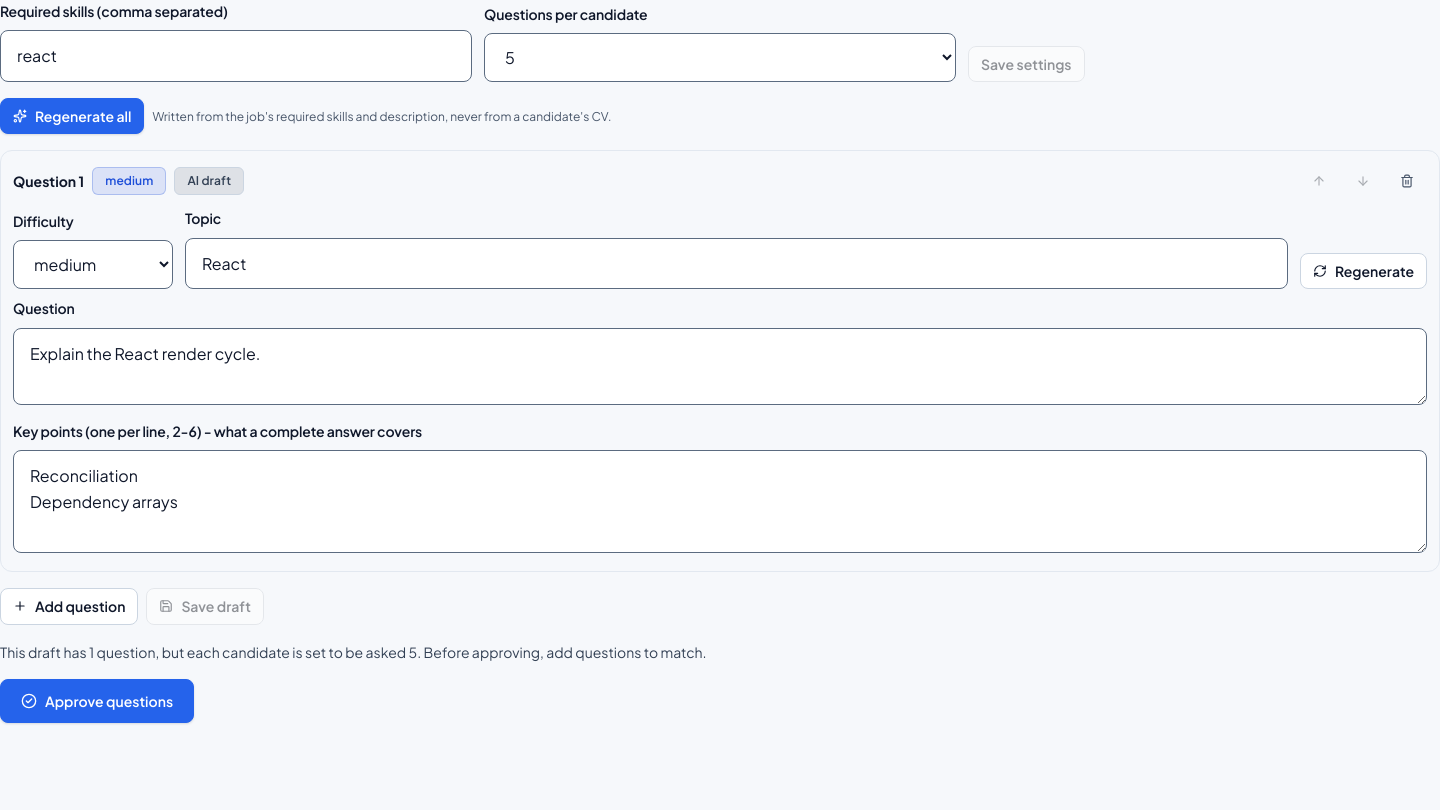
approving › confirming calls the unchanged approve handler
Click the button "Approve questions" at (97, 701), box [0,679,194,724]
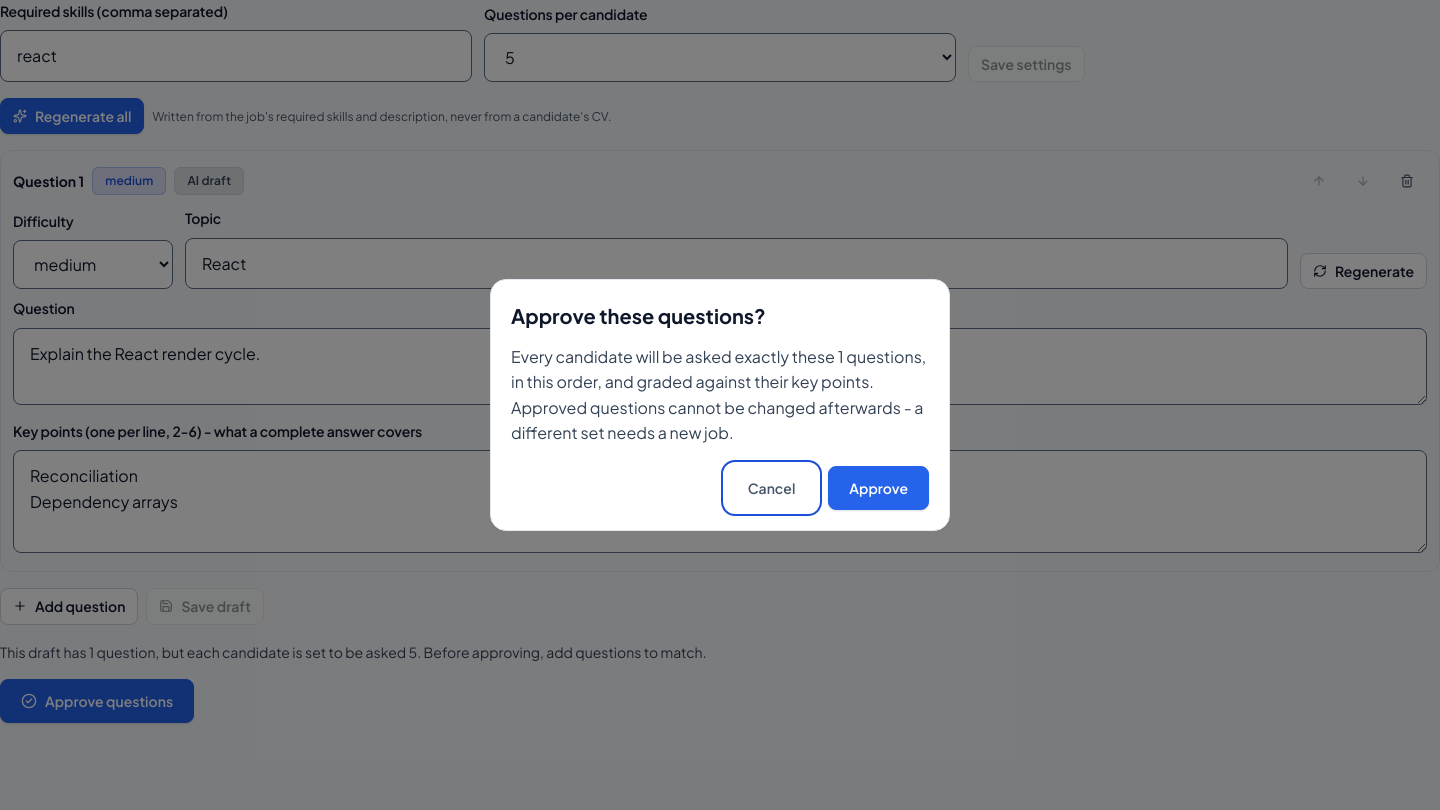
Click the button "Approve" at (879, 488), box [828,466,929,510]
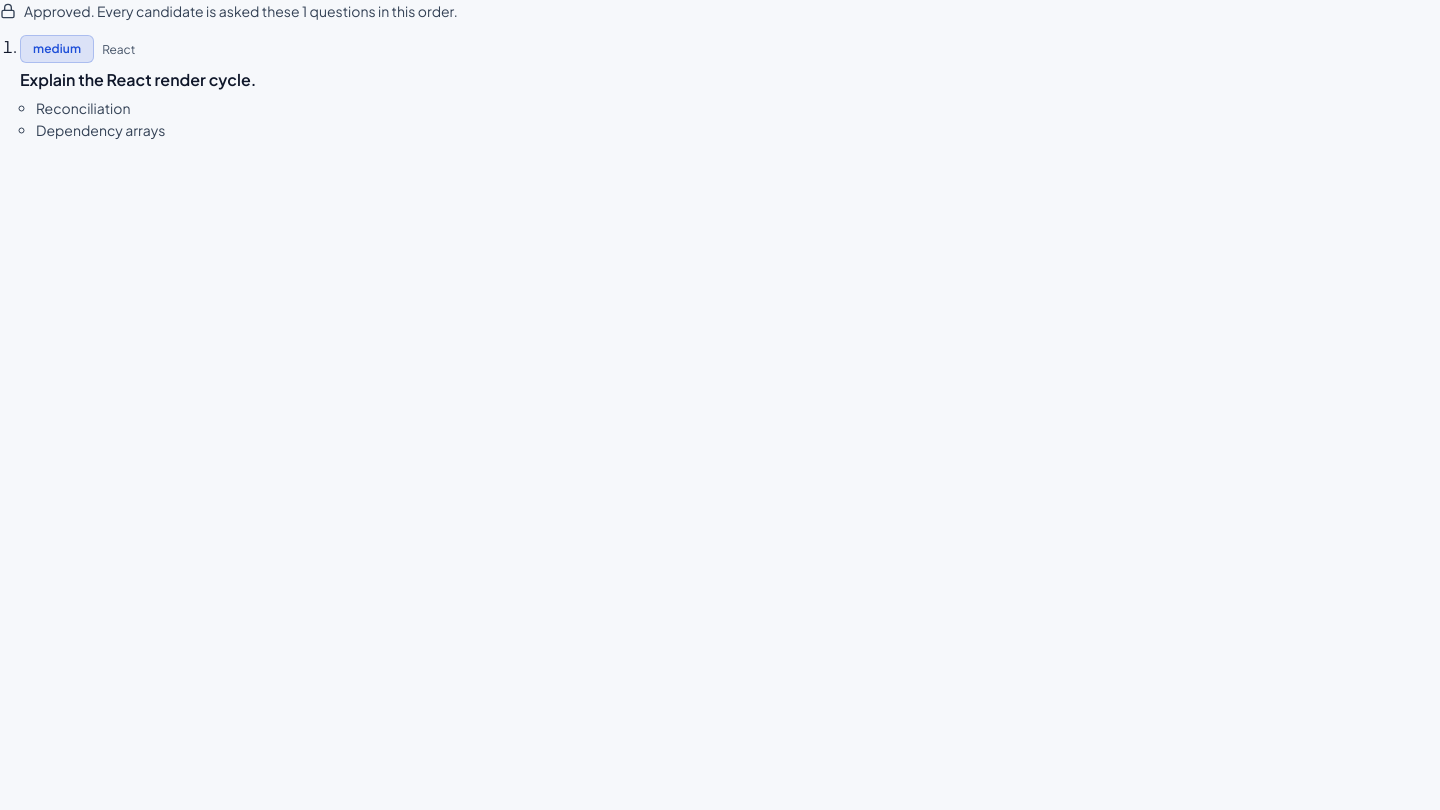
Expected: the dialog is gone
